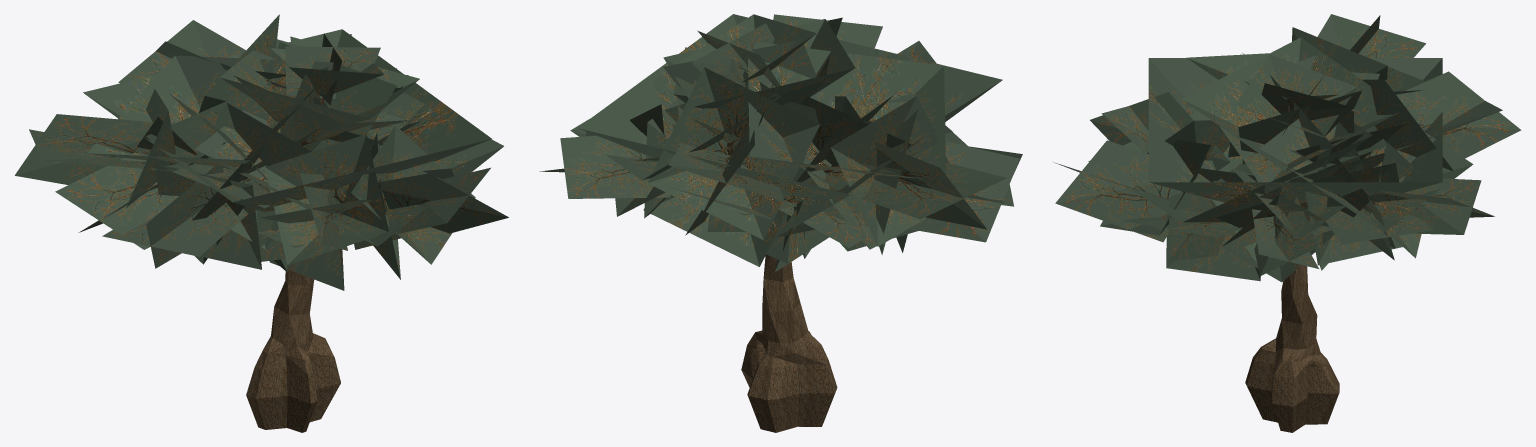
File: decd_oaktreebranches_a1_l0.fbx
The picture shows the model from 3 angles, left to right: view 1: azimuth 30°, elevation 25°; view 2: azimuth 150°, elevation 25°; view 3: azimuth 270°, elevation 25°; orthographic projection. The views are drawn at different scales.
Visible parts, largest first — view 1: mesh_node; view 2: mesh_node; view 3: mesh_node.
Boxes of the visible parts, x1,y1,x2,y2 form: mesh_node: [15, 14, 508, 432]; mesh_node: [539, 14, 1022, 432]; mesh_node: [1053, 14, 1521, 432].
Bounding box in the file's own units: 41.46 × 35.83 × 42.6.
